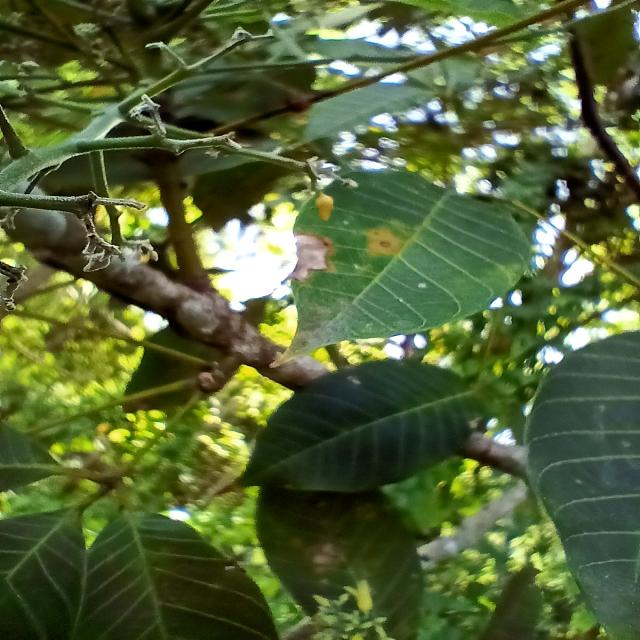Leaf-Blight: (291, 233, 327, 281)
